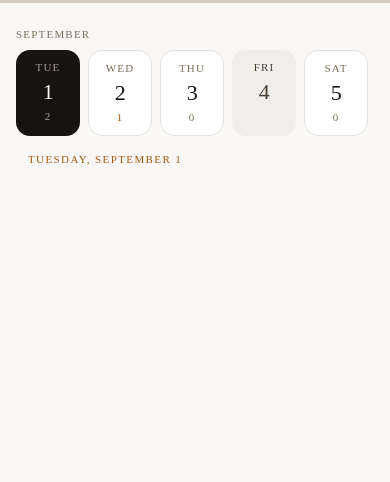
Test: montre les décisions du jour choisi, et non celles d’aujourd’hui
The image size is (390, 482).
Check: the element with test id "bande-des-jours" is shown, box [16,50,374,136]
Click the button with test id "jour-2026-09-02" at (120, 93), box [88,50,152,136]
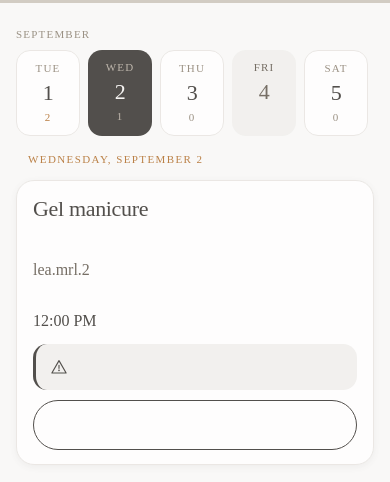
Check: the element with test id "ligne-attente-2" is shown, box [16,180,374,465]
